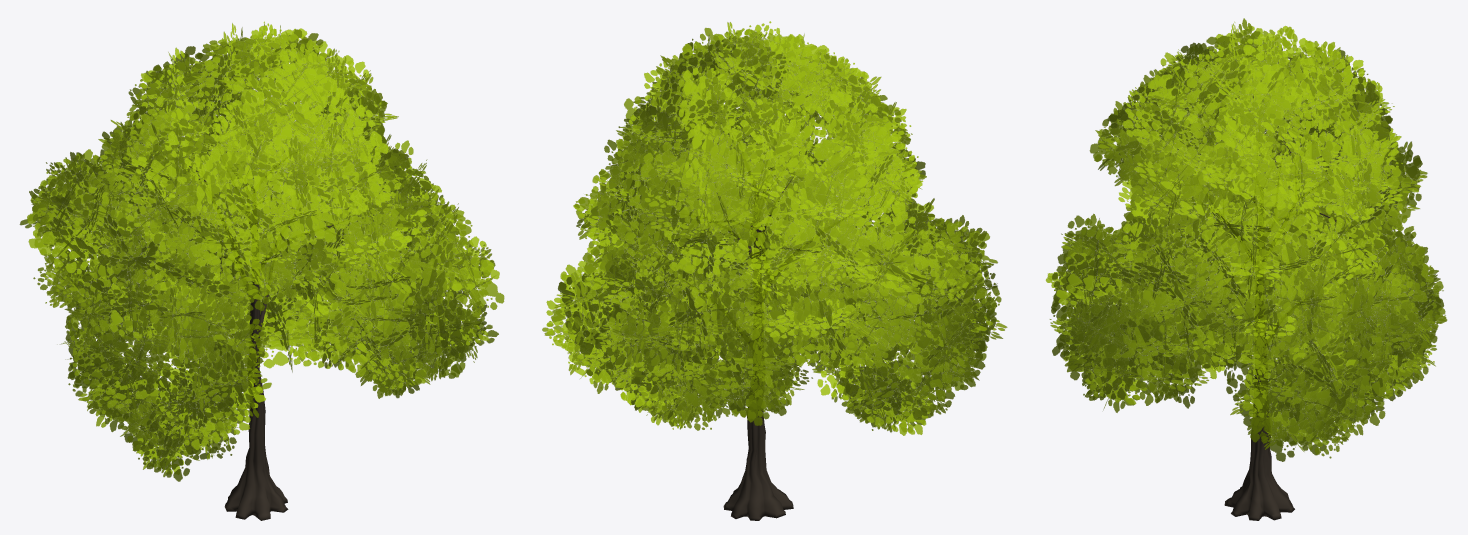
The model's file is Tree8.glb.
The picture shows the model from 3 angles, left to right: view 1: azimuth 30°, elevation 25°; view 2: azimuth 150°, elevation 25°; view 3: azimuth 270°, elevation 25°; orthographic projection.
Parts seen in each view (by area): view 1: Broadleaf_Tree 5_Leaves_LOD0, Dead_Tree_9_LOD0; view 2: Broadleaf_Tree 5_Leaves_LOD0, Dead_Tree_9_LOD0; view 3: Broadleaf_Tree 5_Leaves_LOD0, Dead_Tree_9_LOD0.
Boxes of the visible parts, x1,y1,x2,y2 form: Broadleaf_Tree 5_Leaves_LOD0: [19, 21, 504, 481]; Dead_Tree_9_LOD0: [189, 133, 343, 520]; Broadleaf_Tree 5_Leaves_LOD0: [542, 21, 1007, 435]; Dead_Tree_9_LOD0: [697, 142, 854, 520]; Broadleaf_Tree 5_Leaves_LOD0: [1045, 18, 1447, 461]; Dead_Tree_9_LOD0: [1216, 119, 1336, 520].
Size of the model in its own units: 6.41 by 7.38 by 5.7.
Materials: 2 (2 with a texture image).
